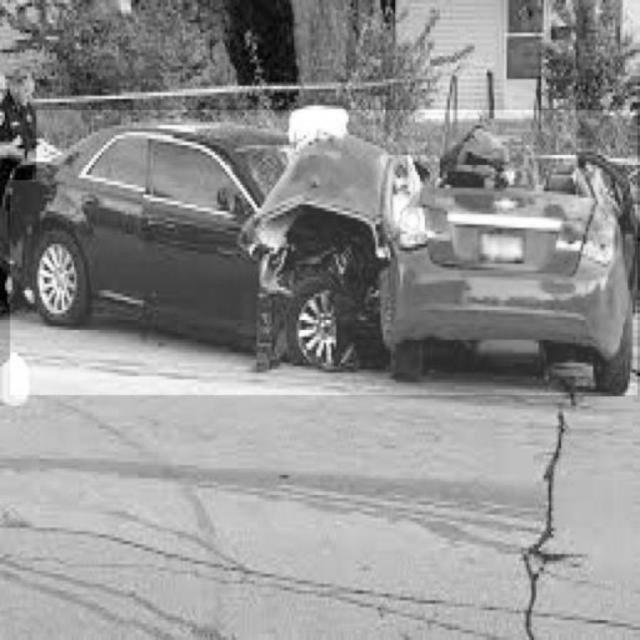accident: (9, 110, 637, 396)
person: (1, 73, 36, 181)
